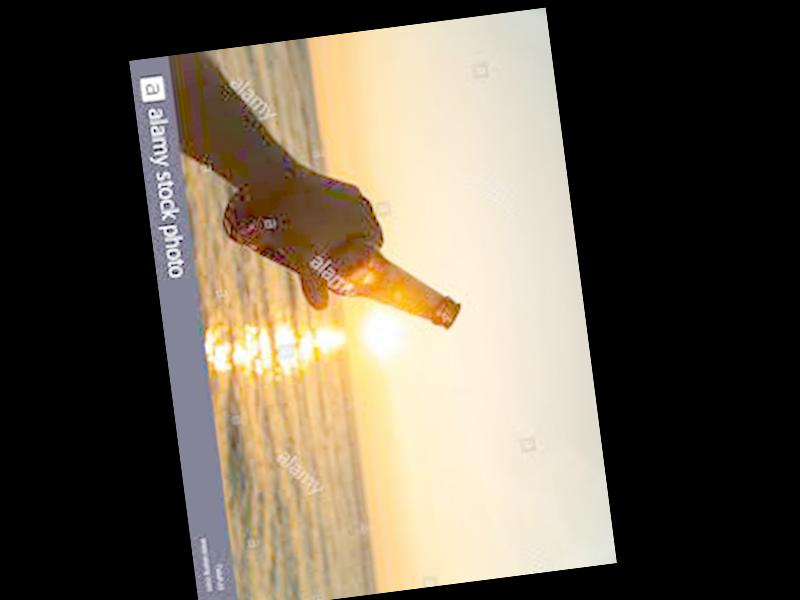Beer: (217, 158, 467, 355)
